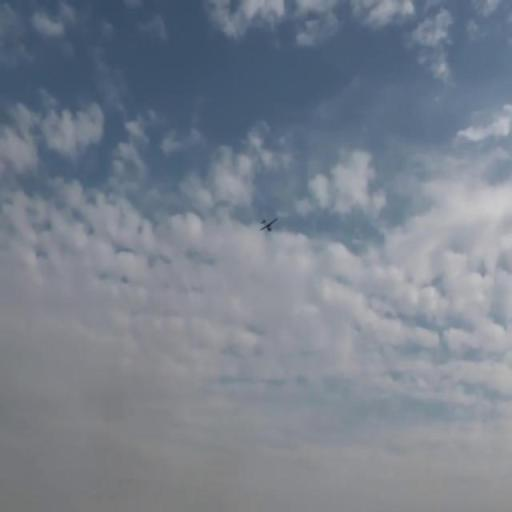uav: (258, 216, 278, 234)
